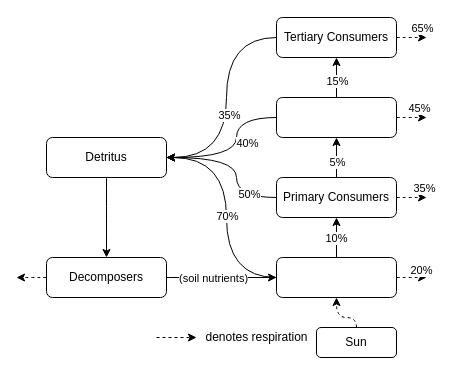
Image size: 452x375. Some labels were removed from this diagram. Here are the shapes that lost their labels. From the top down, the box of each, then its label:
(276, 96, 396, 138): Secondary Consumers
(276, 256, 396, 298): Primary Producers
